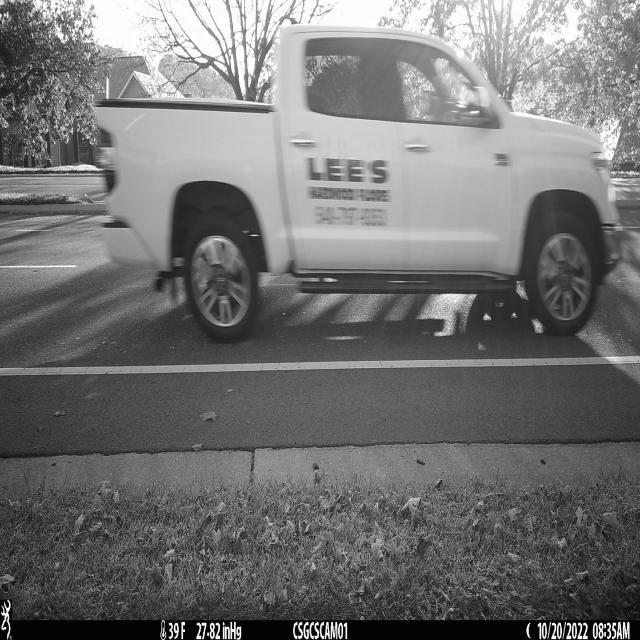Pickup: (93, 24, 623, 345)
